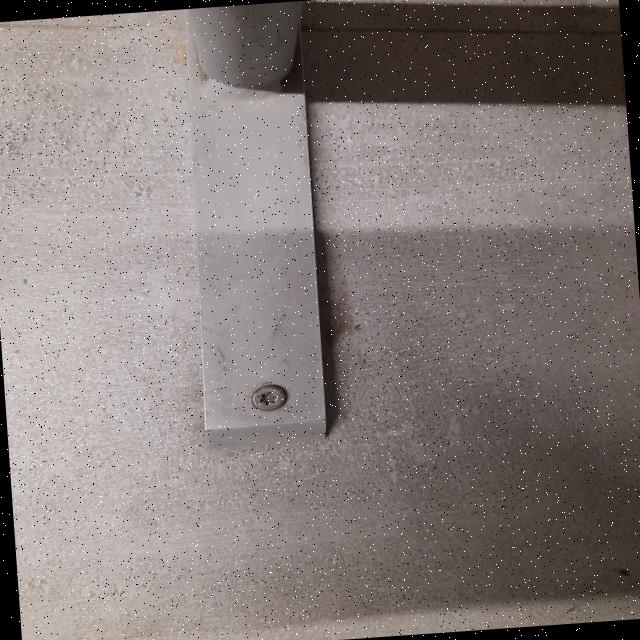Torx: (248, 382, 288, 412)
